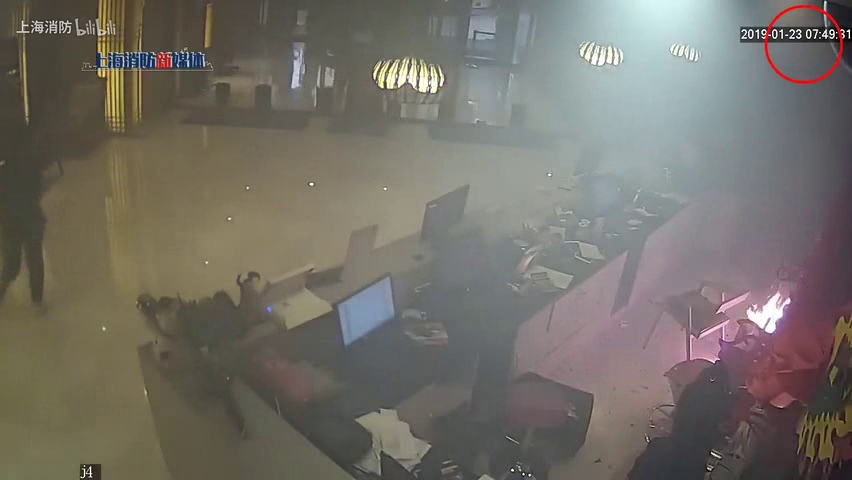fire: (744, 285, 792, 338)
